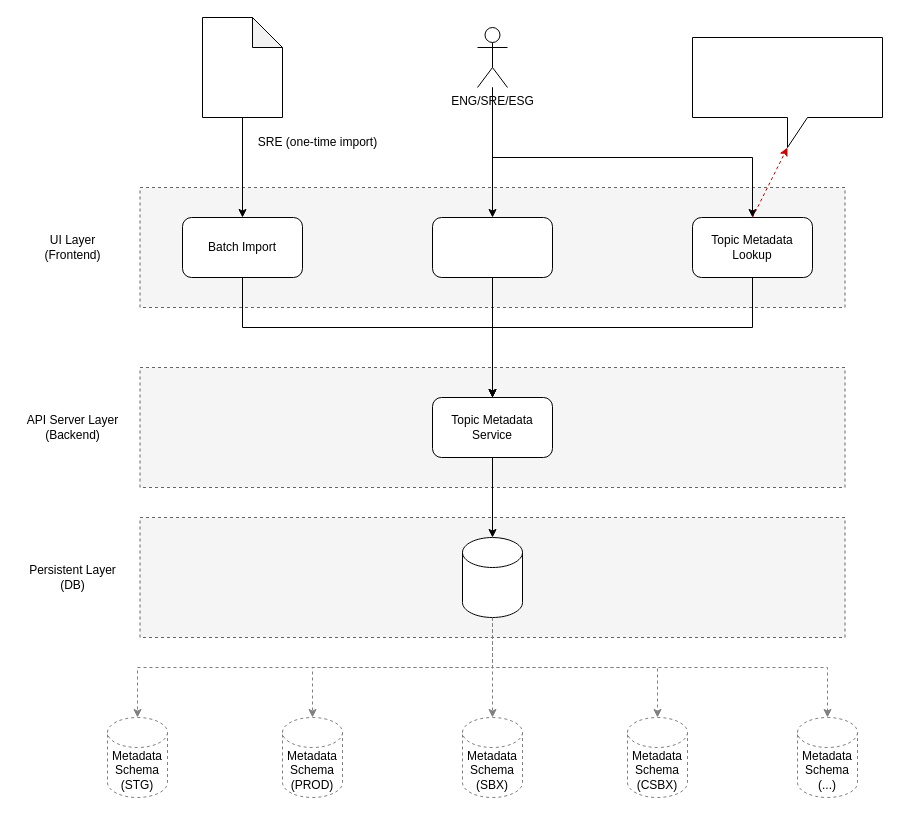
Some shapes in this 900 by 815 pixel diagram are drawn without their labels. The shapes that lost their labels are listed below. From the top down, each one's centre as x and y in pixels, then its label:
At (x=242, y=67): "Topic Metadatas".
At (x=787, y=92): "Topic Metadata Popup: Topic, Team, Consumer, e.t.c".
At (x=492, y=247): "UI Topic Input".
At (x=492, y=577): "Metadata Store".
